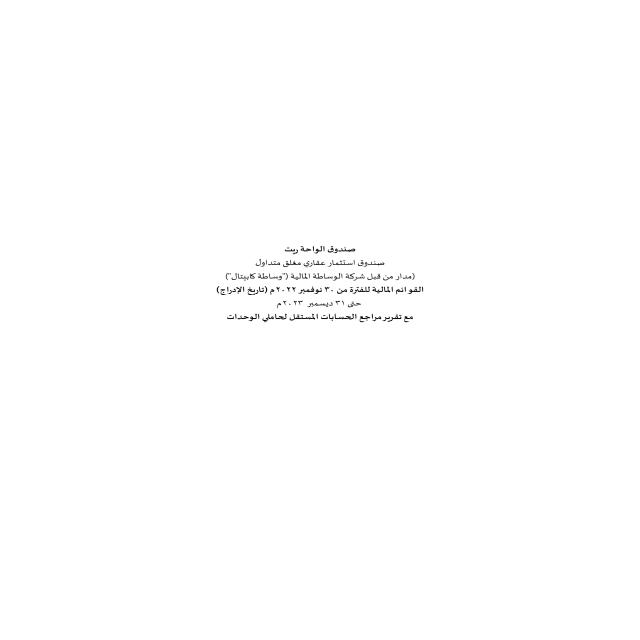other: (186, 211, 424, 386)
